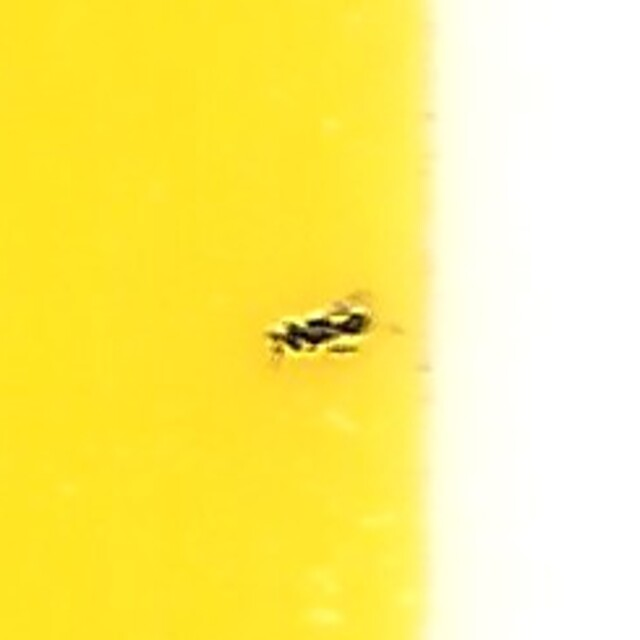Hymenoptera: (261, 282, 379, 358)
